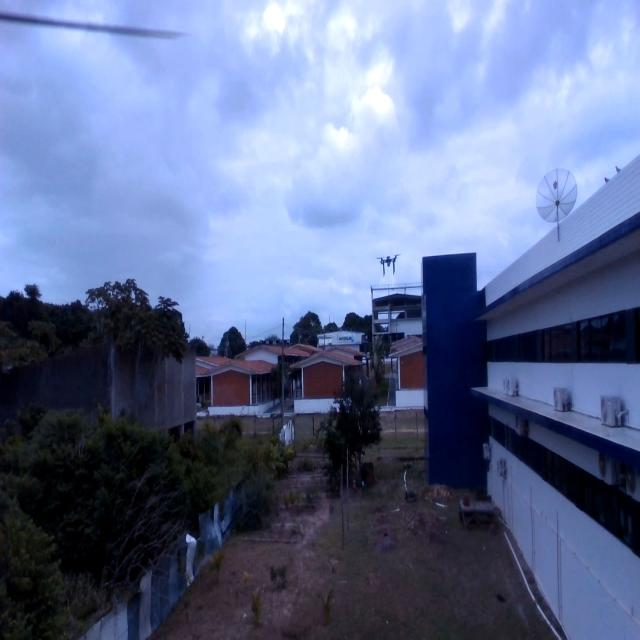-uav-: (369, 242, 405, 288)
